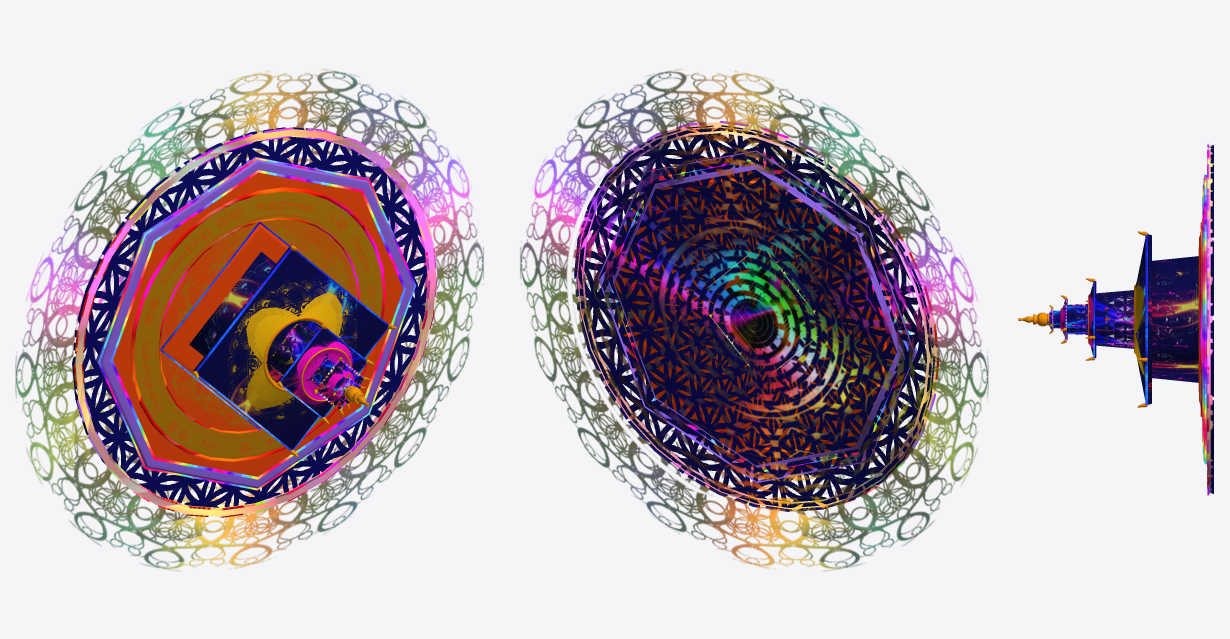
The model's file is temple-of-light.glb.
3 renders of one model, left to right at view 1: azimuth 30°, elevation 25°; view 2: azimuth 150°, elevation 25°; view 3: azimuth 270°, elevation 25°, orthographic. The views are drawn at different scales.
Parts seen in each view (by area): view 1: Object_15, Object_5, Object_39, Object_4, Object_3, Object_12, Object_9, Object_36, Object_6, Object_38, Object_37, Object_24 (+3 smaller); view 2: Object_15, Object_4, Object_39, Object_9, Object_12, Object_26, Object_36, Object_3, Object_37, Object_38, Object_24; view 3: Object_3, Object_36, Object_4, Object_9, Object_12, Object_37, Object_35, Object_6, Object_38, Object_25, Object_16, Object_10.
Part boxes in pixels (x1,y1,x2,y2): Object_15: (15,69,483,570); Object_5: (134,191,383,458); Object_39: (113,167,403,480); Object_4: (72,127,427,507); Object_3: (189,247,387,449); Object_12: (96,156,414,488); Object_9: (75,129,436,516); Object_36: (98,157,416,490); Object_6: (227,280,357,418); Object_38: (162,224,352,428); Object_37: (73,127,437,517); Object_24: (130,187,385,461); Object_15: (520,69,988,570); Object_4: (574,125,934,511); Object_39: (612,157,904,472); Object_9: (577,122,938,509); Object_12: (598,150,916,482); Object_26: (717,260,809,361); Object_36: (601,151,917,479); Object_3: (663,212,858,416); Object_37: (576,121,939,511); Object_38: (706,253,817,372); Object_24: (631,178,886,451); Object_3: (1048,234,1198,404); Object_36: (1202,174,1206,464); Object_4: (1210,145,1213,493); Object_9: (1207,145,1212,494); Object_12: (1203,175,1207,463); Object_37: (1052,143,1209,495); Object_35: (1093,232,1200,406); Object_6: (1135,267,1145,378); Object_38: (1198,235,1200,403); Object_25: (1200,222,1201,416); Object_16: (1060,293,1093,347); Object_10: (1064,260,1191,380).
Size of what is drawn, in the model's own units: 3.3 by 3.3 by 1.42.
Materials: 23 (7 with a texture image).
